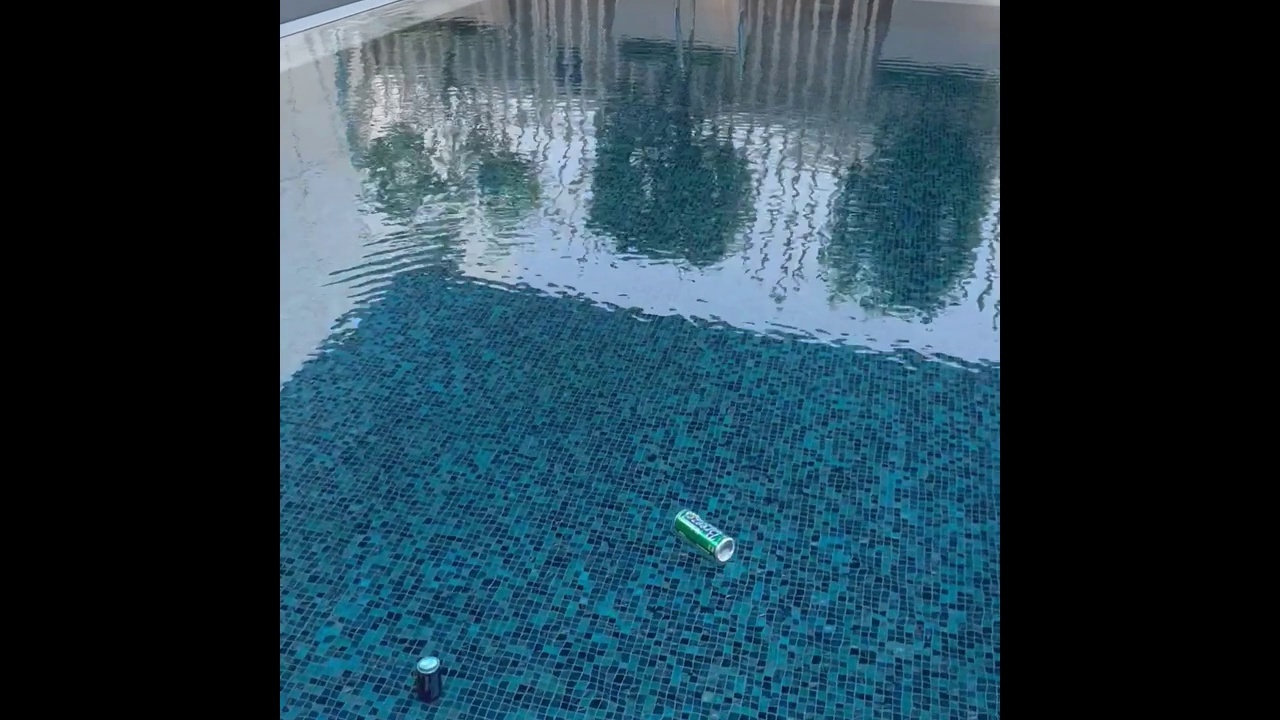debris: (662, 507, 738, 569), (412, 654, 447, 704)
